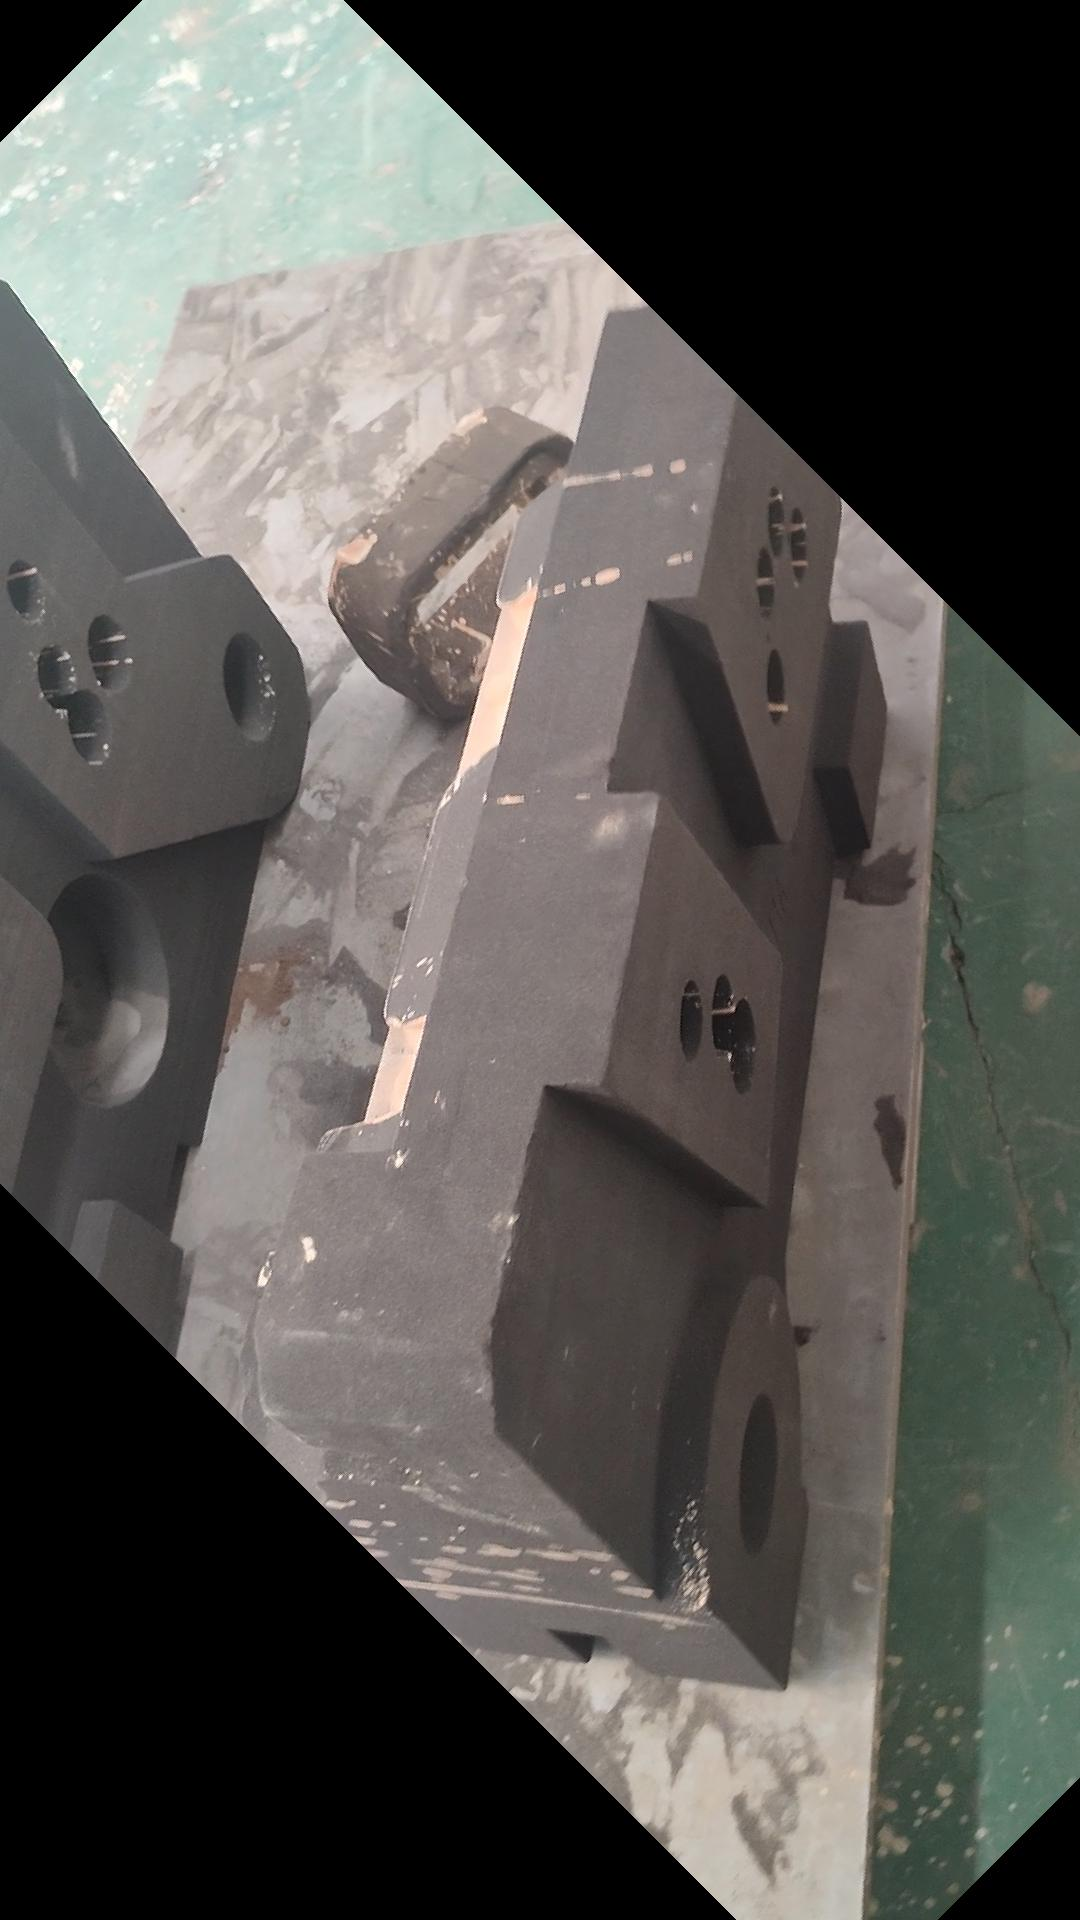pouring hole: (738, 1393, 779, 1552), (224, 634, 280, 742)
